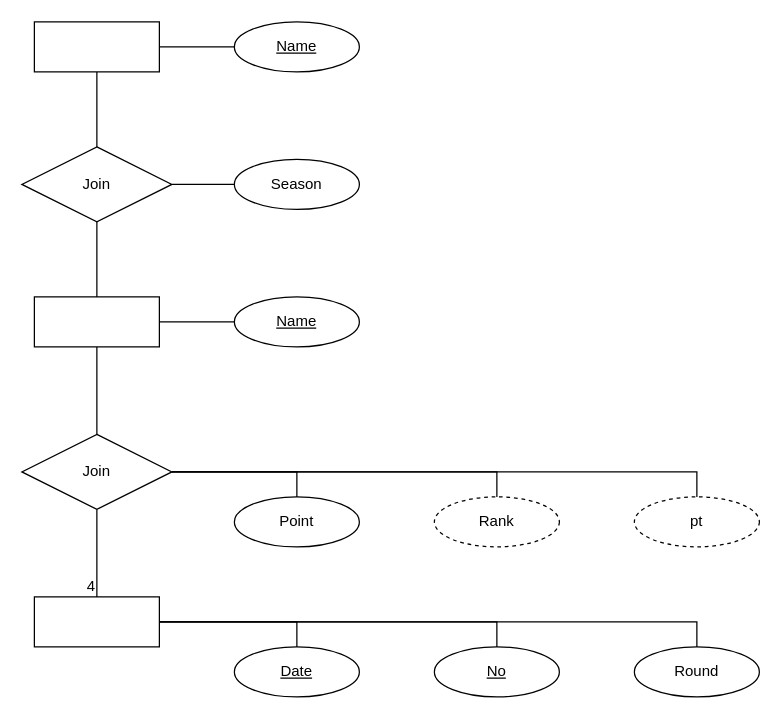
Some shapes in this 781 by 719 pixel diagram are drawn without their labels. Each missing label, with the centre of its shape:
Match: (96,621)
Player: (96,321)
Team: (96,46)
